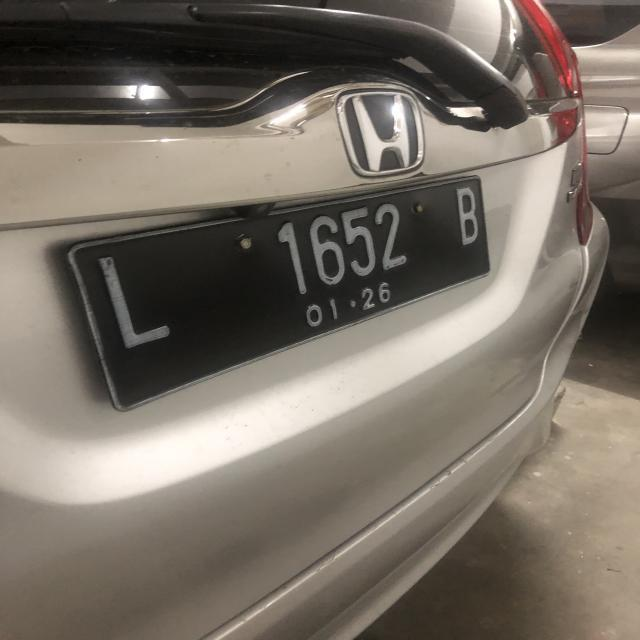1: (275, 219, 311, 297)
2: (375, 198, 416, 273)
5: (340, 204, 376, 282)
6: (306, 210, 347, 288)
B: (453, 182, 478, 250)
L: (92, 246, 170, 352)
